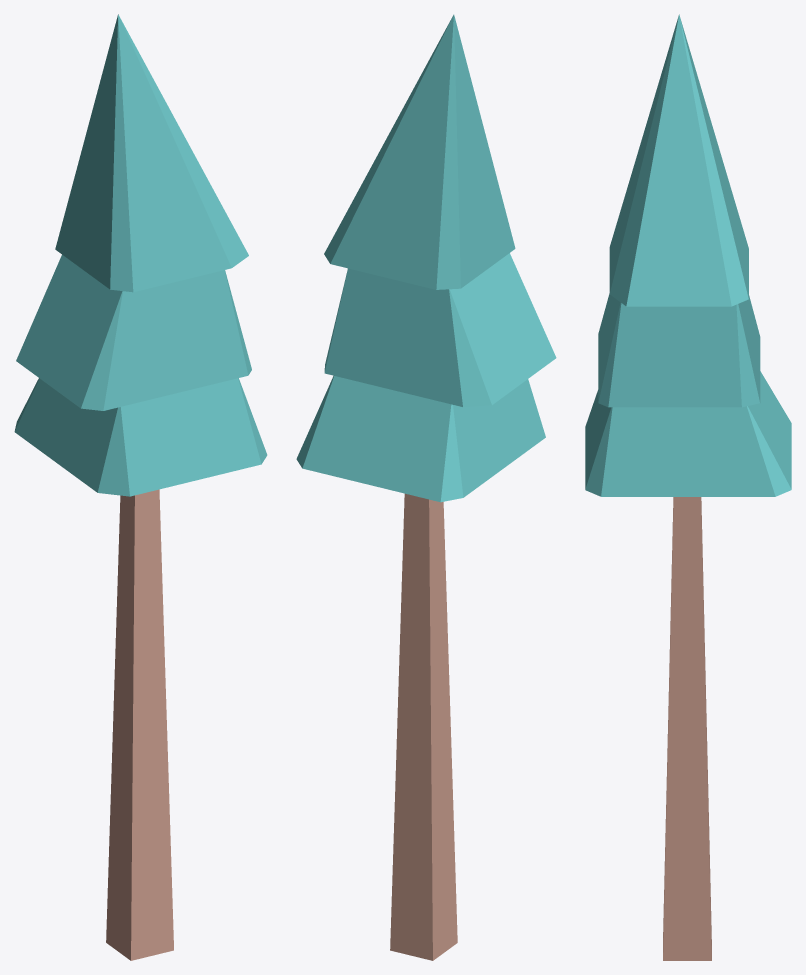
Rendered from tree_pineTallB.gltf.
3 views of the same model, side by side, from view 1: azimuth 30°, elevation 25°; view 2: azimuth 150°, elevation 25°; view 3: azimuth 270°, elevation 25° (orthographic).
Parts seen in each view (by area): view 1: tree_pineTallB; view 2: tree_pineTallB; view 3: tree_pineTallB.
Part boxes in pixels (<box>): tree_pineTallB: <box>14,14,267,960</box>; tree_pineTallB: <box>296,14,556,960</box>; tree_pineTallB: <box>585,14,791,960</box>.
Bounding box in the file's own units: 0.3863 × 1.93 × 0.3919.
